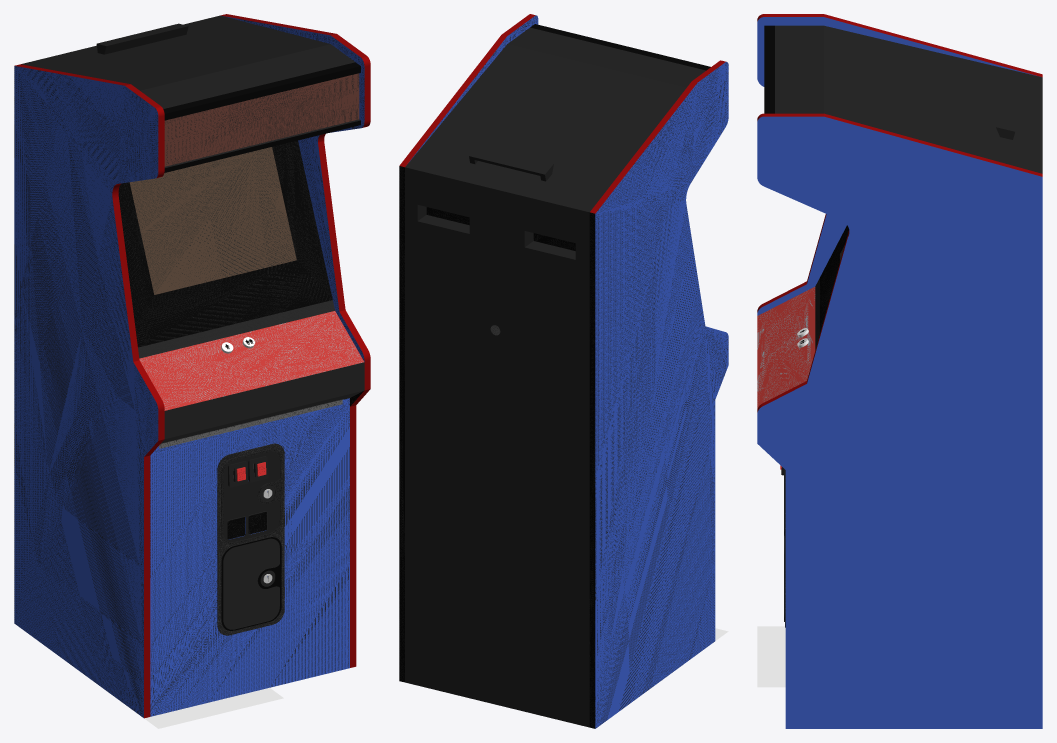
File: arcade.dae
3 views of the same model, side by side, from view 1: azimuth 30°, elevation 25°; view 2: azimuth 150°, elevation 25°; view 3: azimuth 270°, elevation 25° (orthographic). The views are drawn at different scales.
Parts seen in each view (by area): view 1: SketchUp (×21), image_0; view 2: SketchUp (×11); view 3: SketchUp (×9), image_0.
Boxes of the visible parts, x1,y1,x2,y2 form: SketchUp (×21): (14,14,370,718); image_0: (144,687,283,728); SketchUp (×11): (399,14,728,728); SketchUp (×9): (757,14,1042,728); image_0: (757,626,785,687).
Bounding box in the file's own units: 25.5 × 30 × 71.
